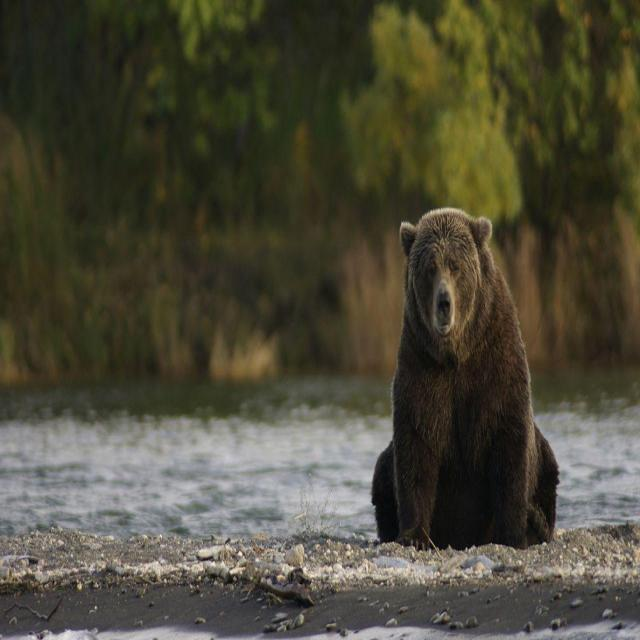Bear: (370, 208, 560, 552)
